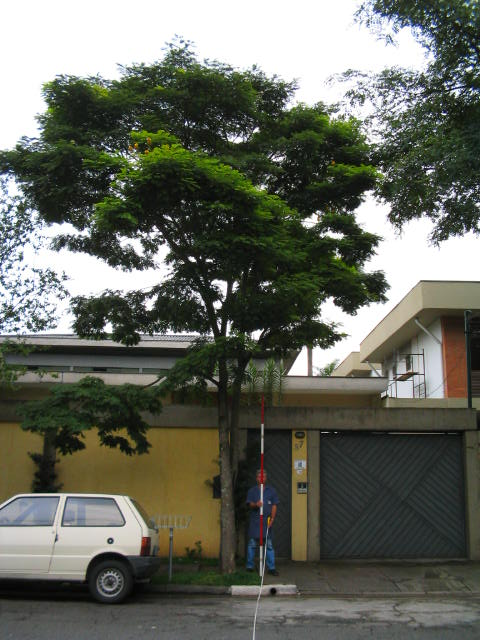crown: (4, 33, 390, 367)
stem: (210, 469, 246, 574)
stick: (252, 393, 273, 576)
tree: (1, 33, 392, 575)
